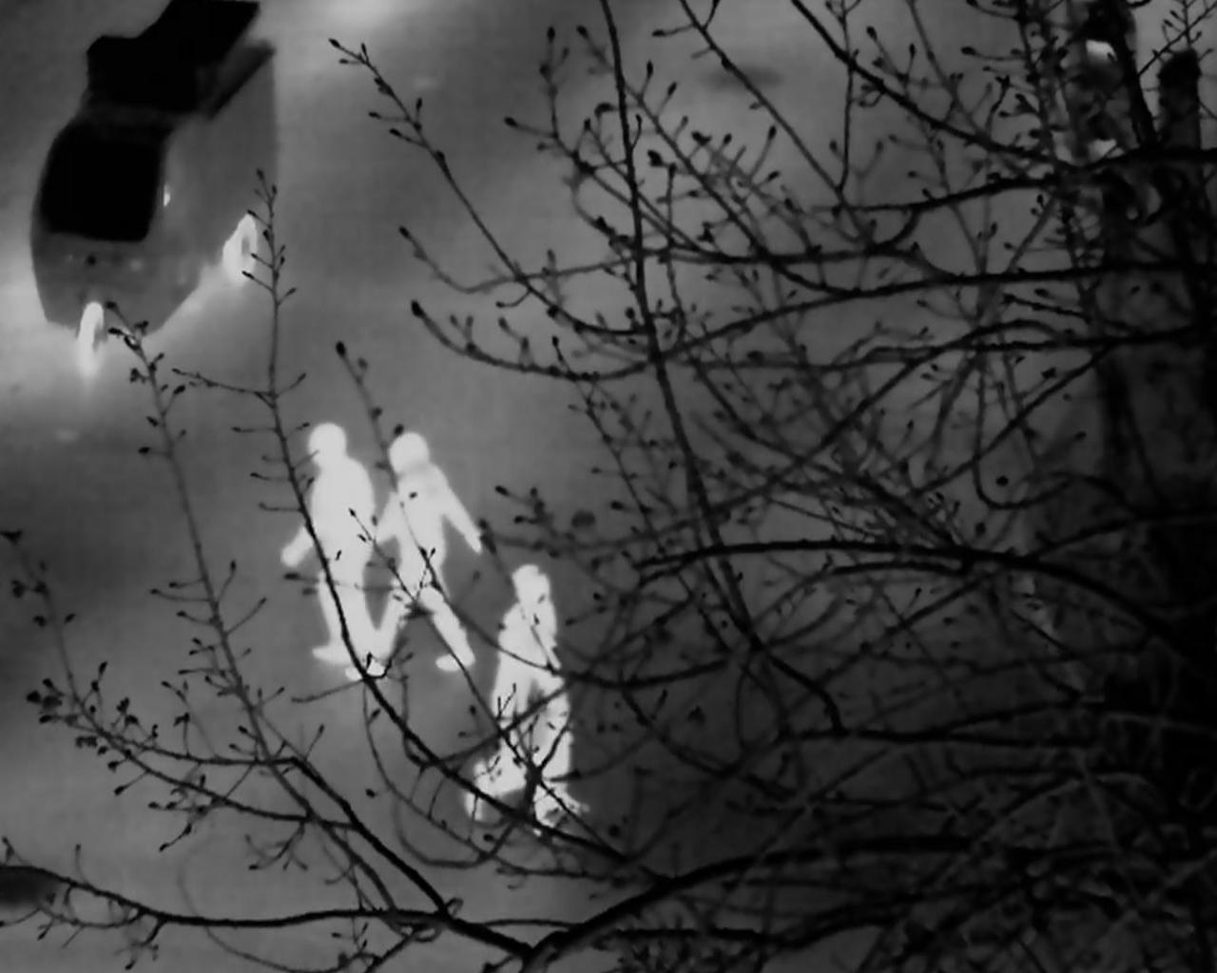person: (379, 440, 486, 676), (285, 425, 385, 674), (492, 566, 576, 819)
